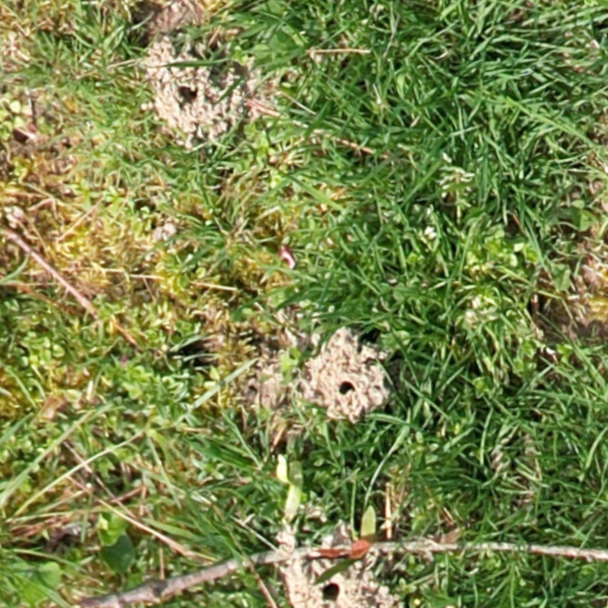nest: (144, 39, 254, 152), (301, 331, 394, 426), (284, 547, 402, 608)
